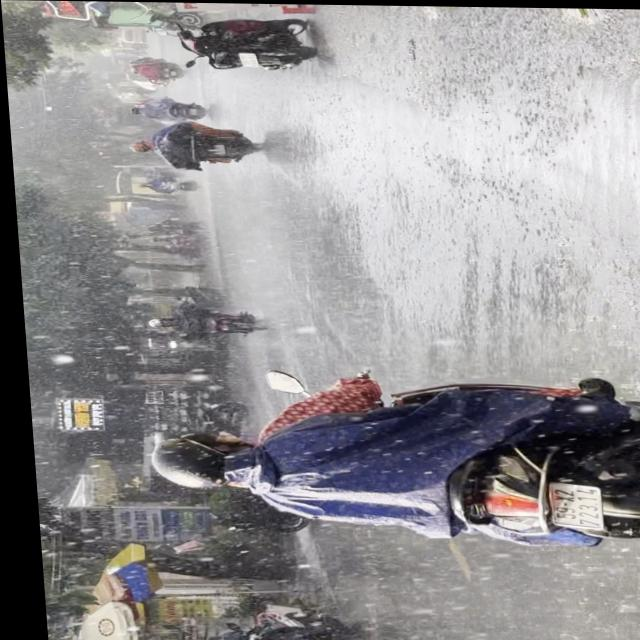helmet: (138, 433, 241, 491)
licenseplate: (127, 364, 640, 555), (169, 604, 349, 640)
nohelmet: (540, 482, 593, 528)
